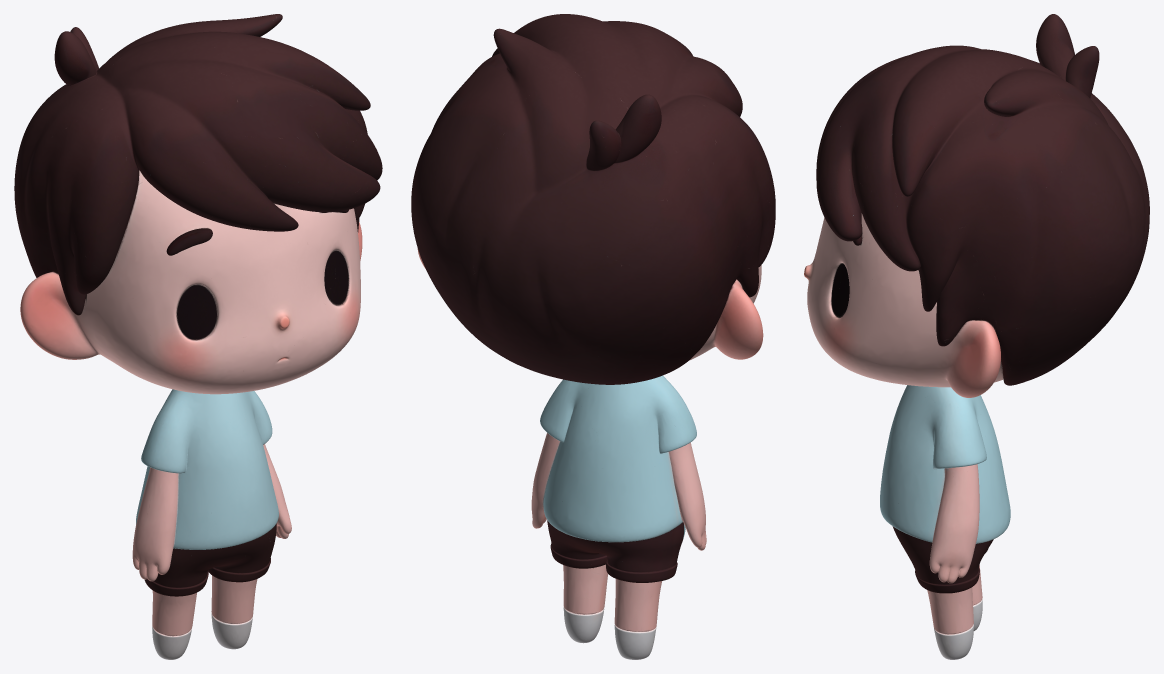
File: meshy-model-2026-11-06T15-46-28-028Z.glb
3 views of the same model, side by side, from view 1: azimuth 30°, elevation 25°; view 2: azimuth 150°, elevation 25°; view 3: azimuth 270°, elevation 25° (orthographic). The views are drawn at different scales.
Size of the model in its own units: 1.11 by 1.9 by 1.01.
Materials: 1 (1 with a texture image).
